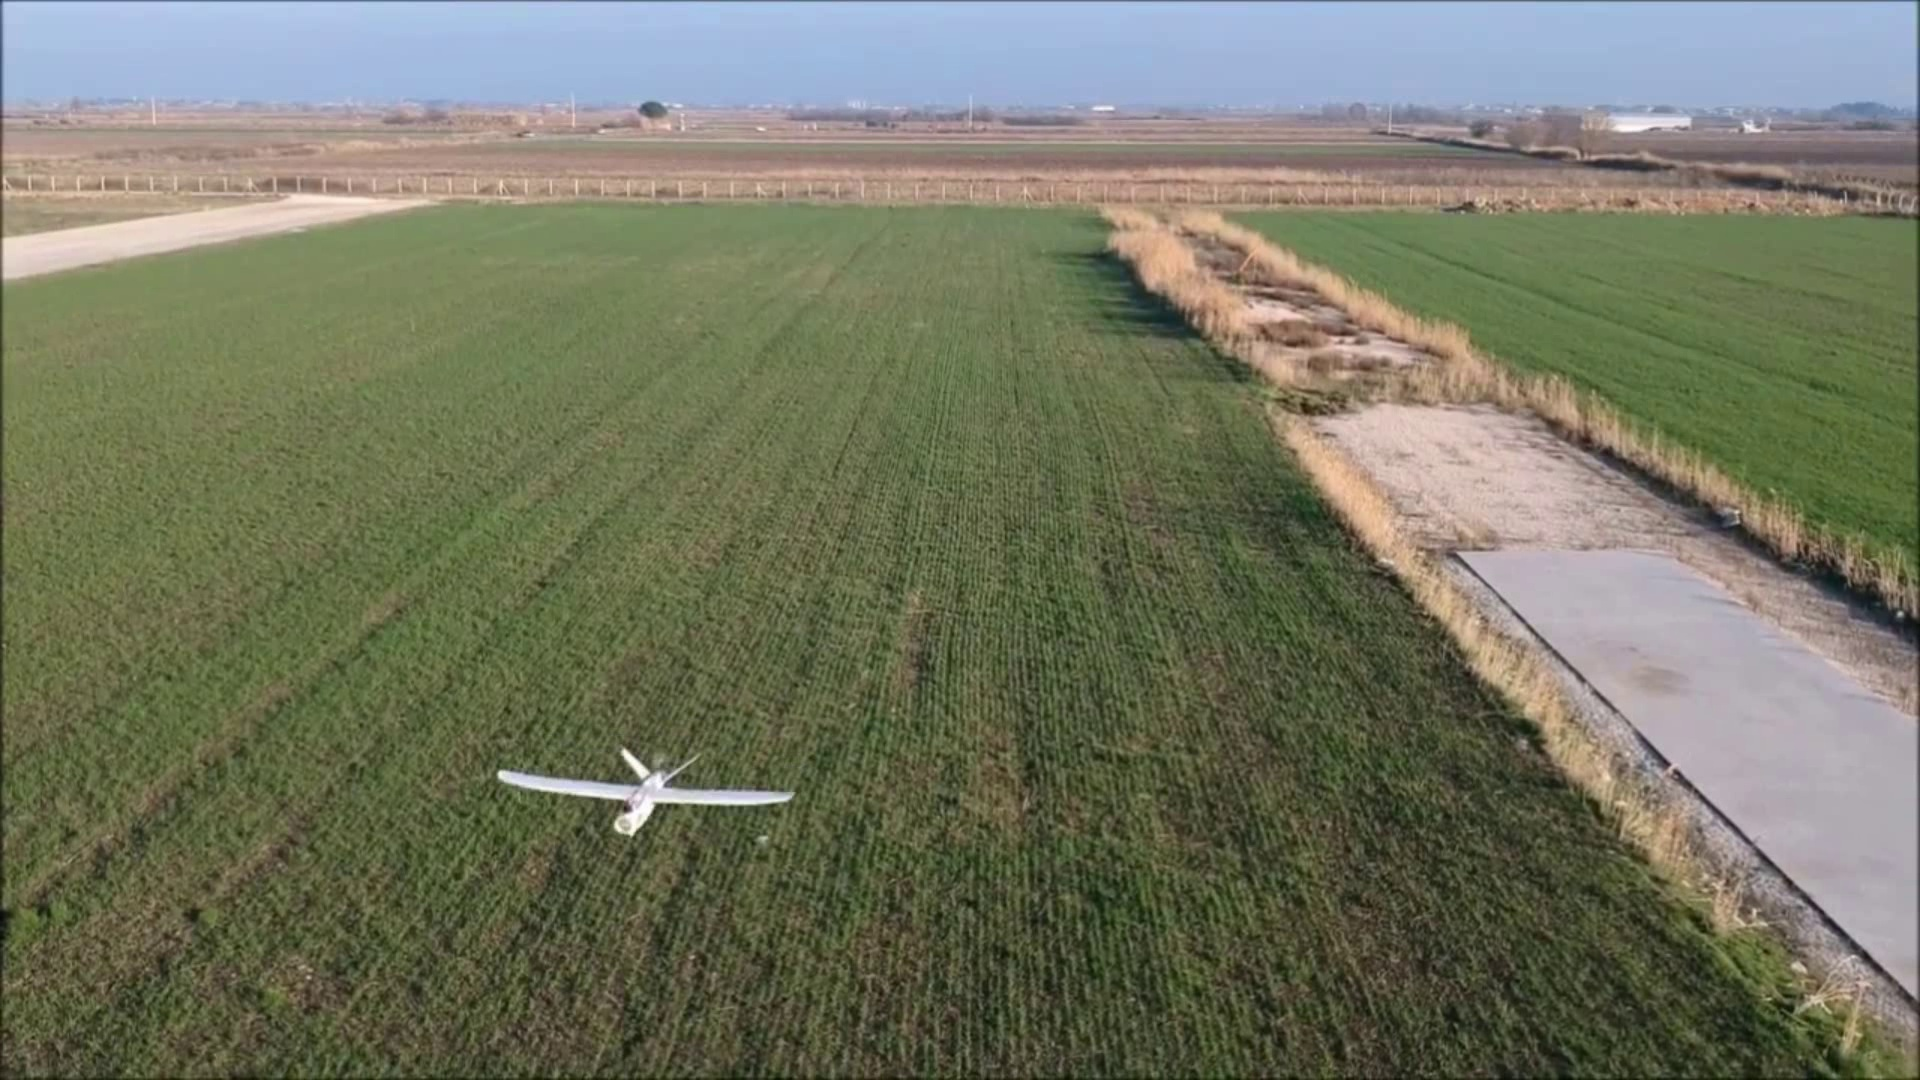airplane: (493, 742, 793, 836)
